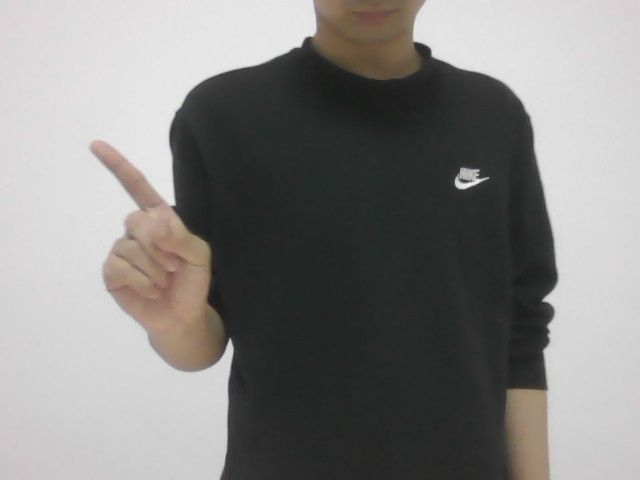what: (58, 121, 226, 336)
